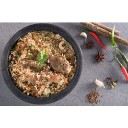briyani: (15, 35, 74, 93)
